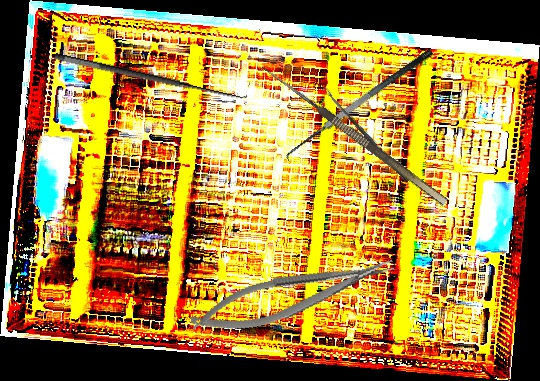Hook Surgical: (253, 62, 448, 216), (53, 37, 251, 106)
Needle Holder: (185, 249, 401, 343)
Spatula Surgical: (279, 46, 443, 169)
Surgical Spoon: (321, 86, 411, 183)
